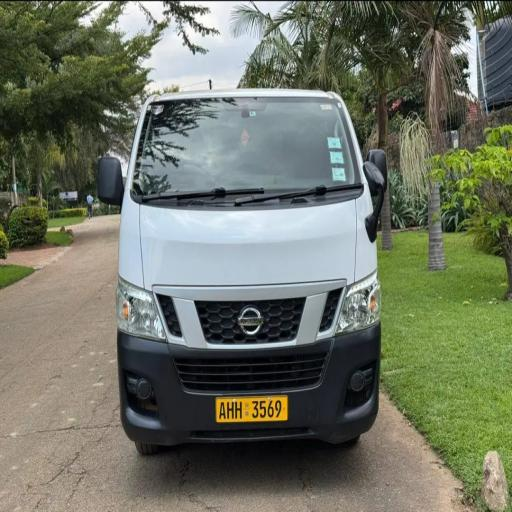number-plates: (215, 395, 286, 423)
